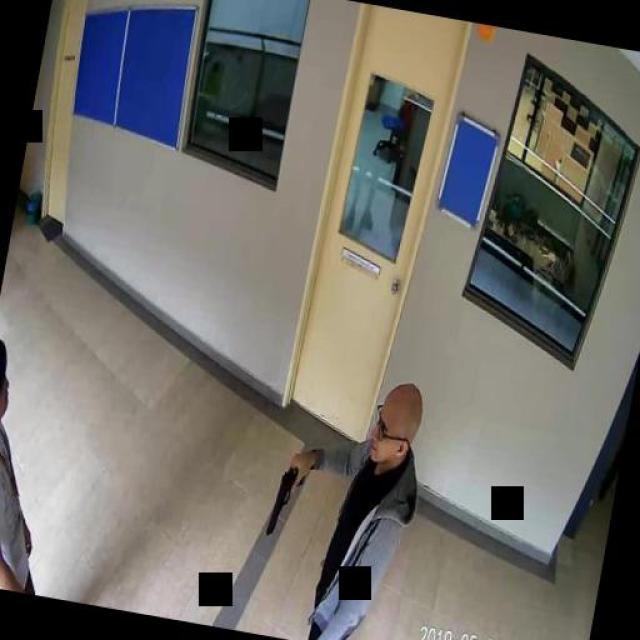gun: (264, 458, 305, 538)
